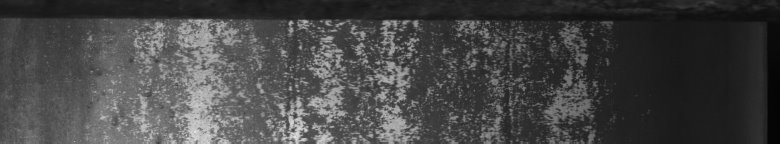kb: (83, 12, 584, 136)
